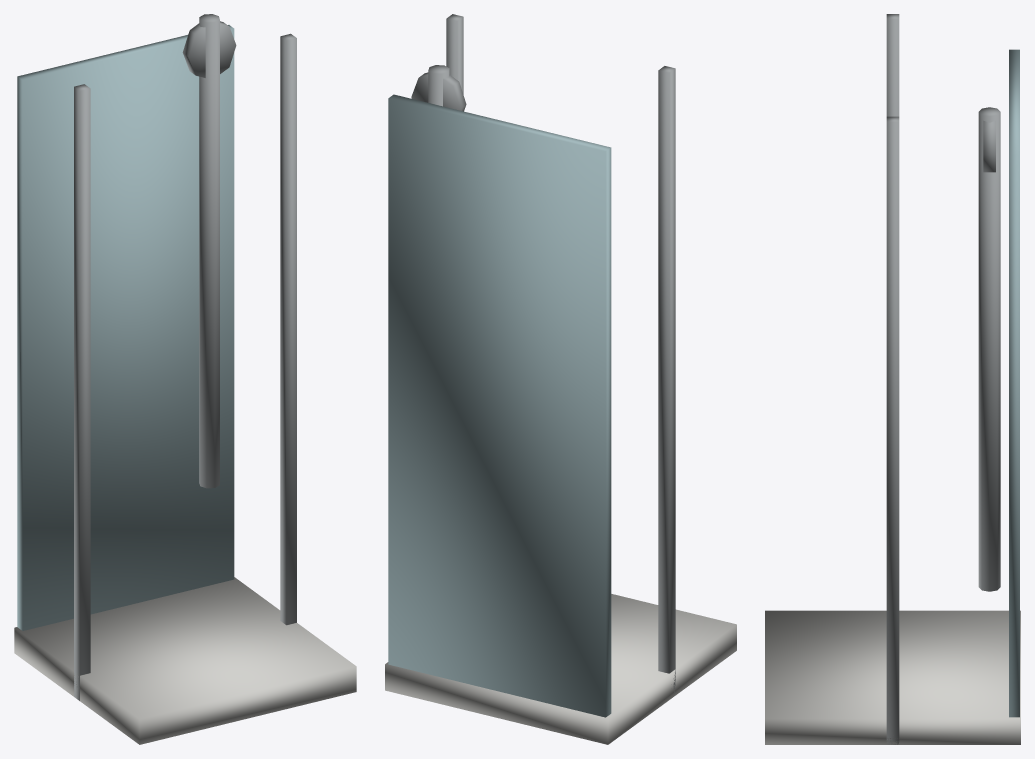
Rendered from shower_stall__tall.glb.
The picture shows the model from 3 angles, left to right: view 1: azimuth 30°, elevation 25°; view 2: azimuth 150°, elevation 25°; view 3: azimuth 270°, elevation 25°; orthographic projection. The views are drawn at different scales.
Visible parts, largest first — view 1: world; view 2: world; view 3: world.
Part boxes in pixels (bbox=[...]): world: bbox=[14, 14, 356, 744]; world: bbox=[385, 14, 736, 744]; world: bbox=[765, 14, 1020, 744].
Bounding box in the file's own units: 0.82 × 2.2 × 0.82.
